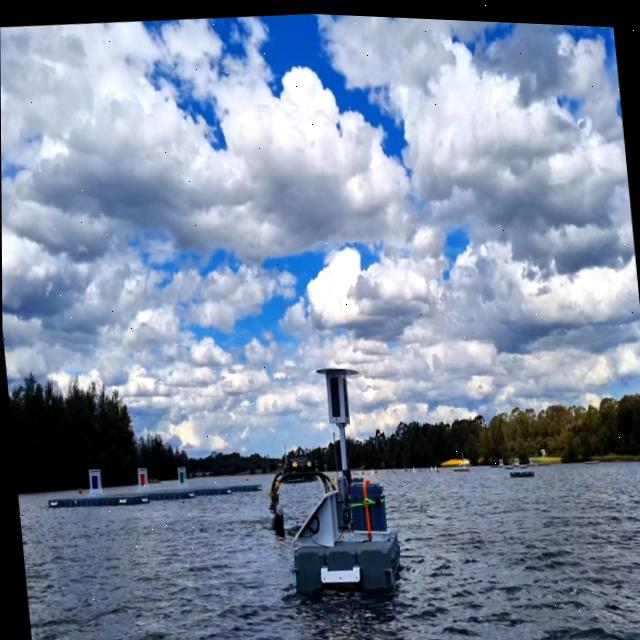led: (326, 371, 342, 418)
